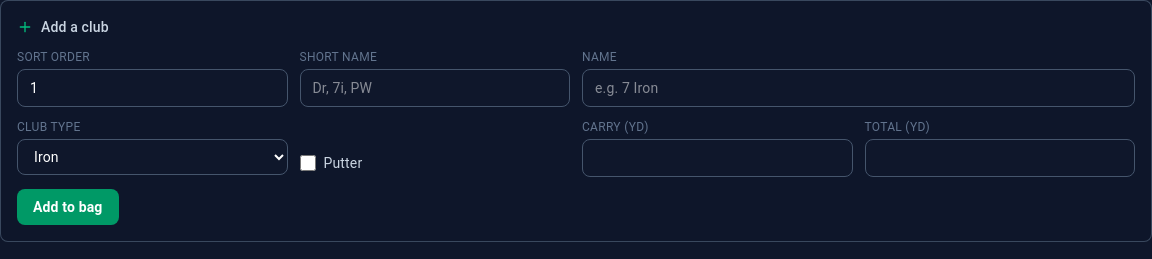
Test: BagAddClubForm Component › Putter / Club Type Syncing › selecting putter from dropdown checks the putter checkbox
Select "Putter" in the dropdown labelled "Club type": x=152, y=157 [17,139,288,175]
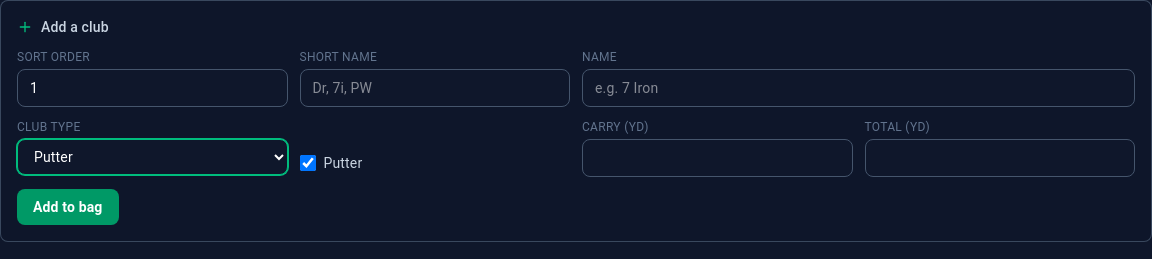
Result: the checkbox labelled "Putter" is checked at [300,155,316,171]
